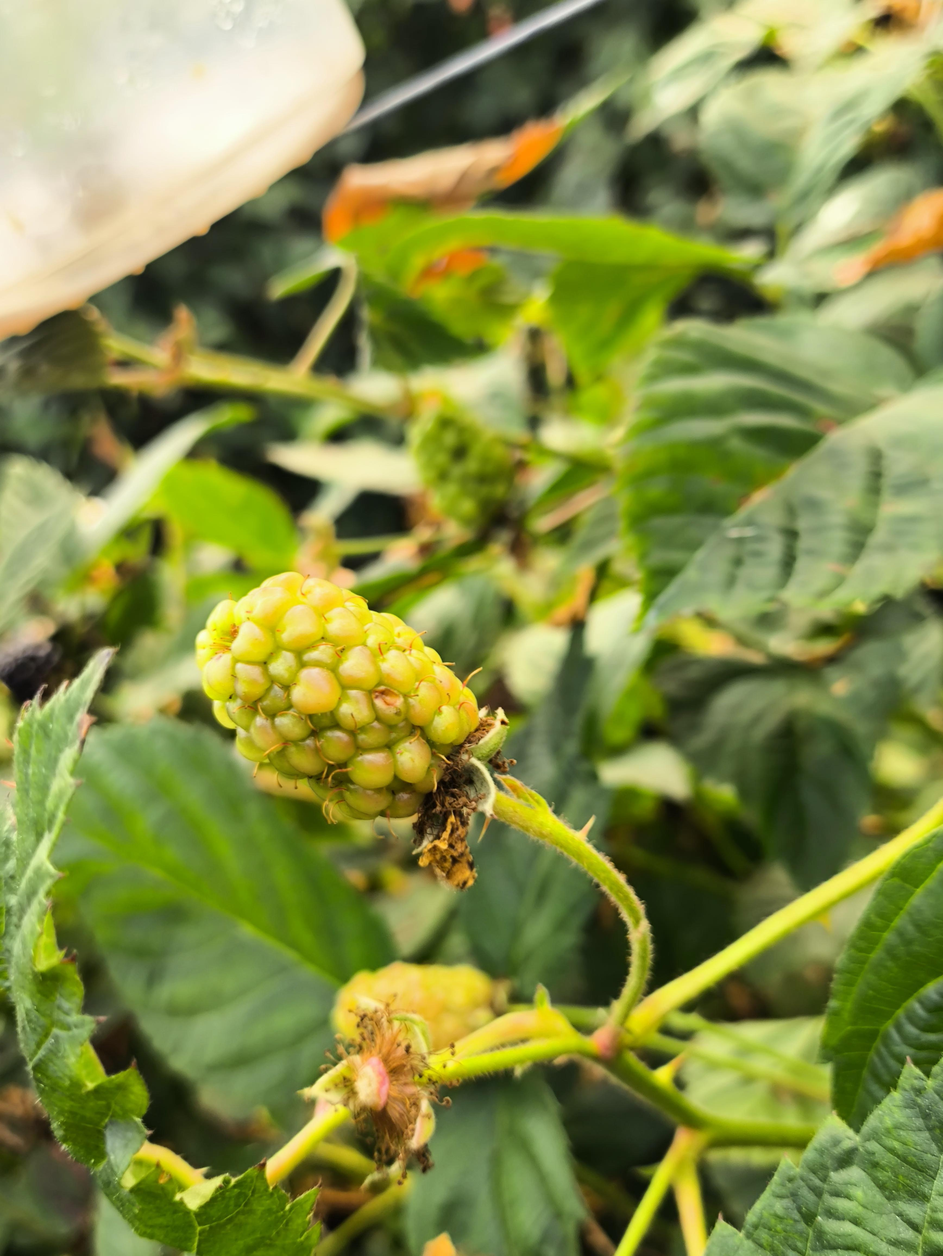verde: (196, 572, 479, 819)
